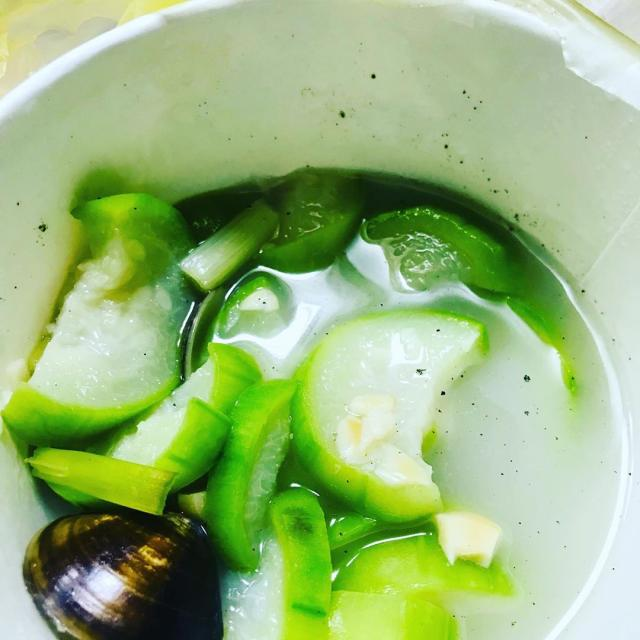Wet: (0, 134, 530, 552)
